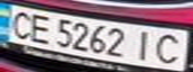2: (106, 25, 130, 58), (66, 20, 90, 53)
5: (51, 16, 75, 50)
6: (87, 22, 109, 56)
C: (151, 32, 190, 65), (3, 7, 39, 40)
E: (24, 11, 57, 45)
I: (127, 28, 160, 62)
